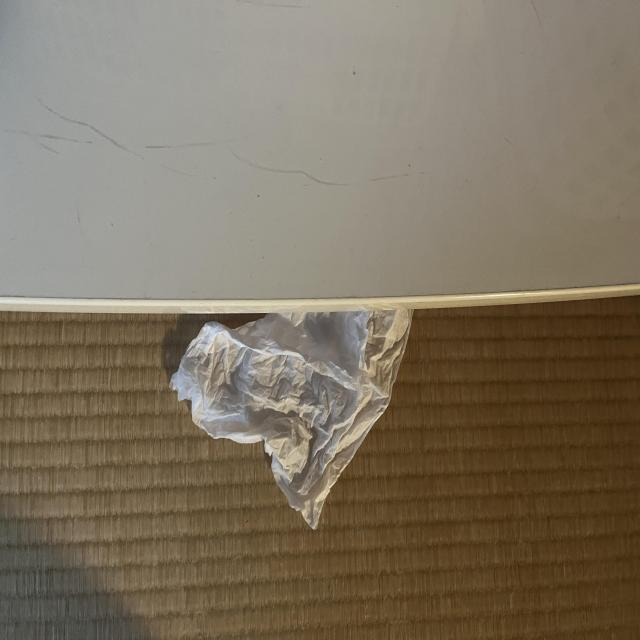Paper: (156, 297, 443, 537)
